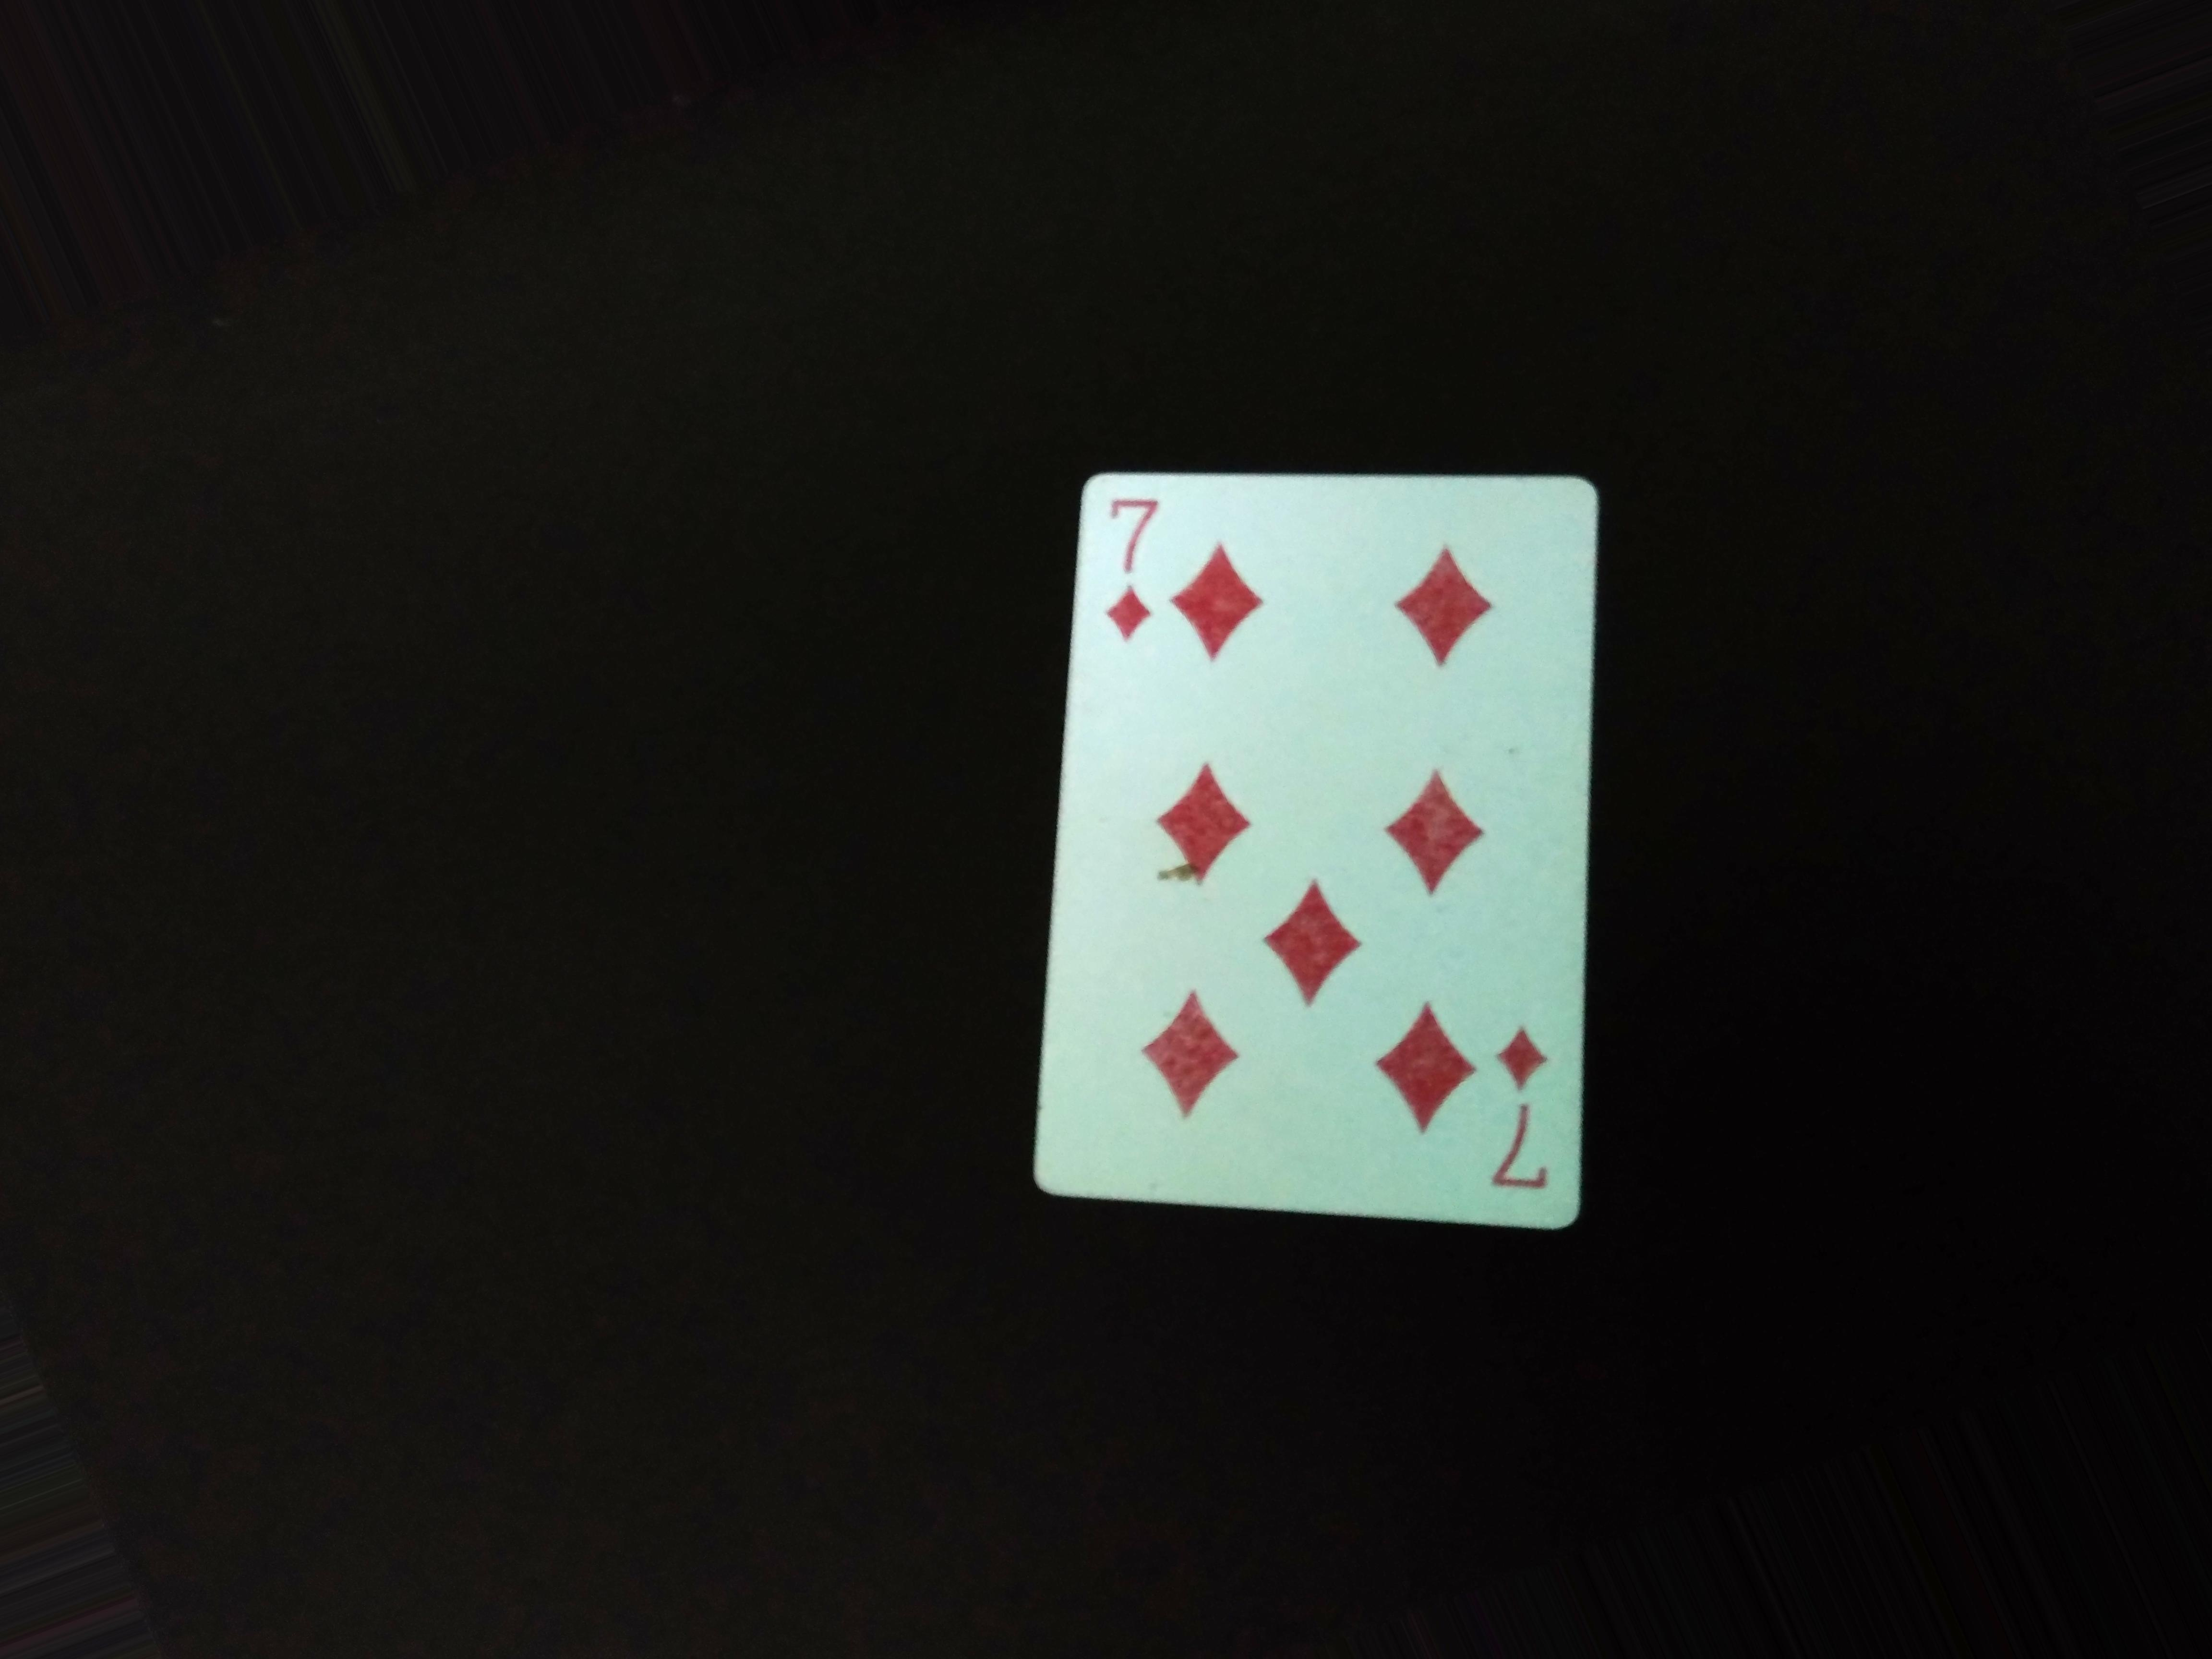7D: (1078, 483, 1177, 674)
